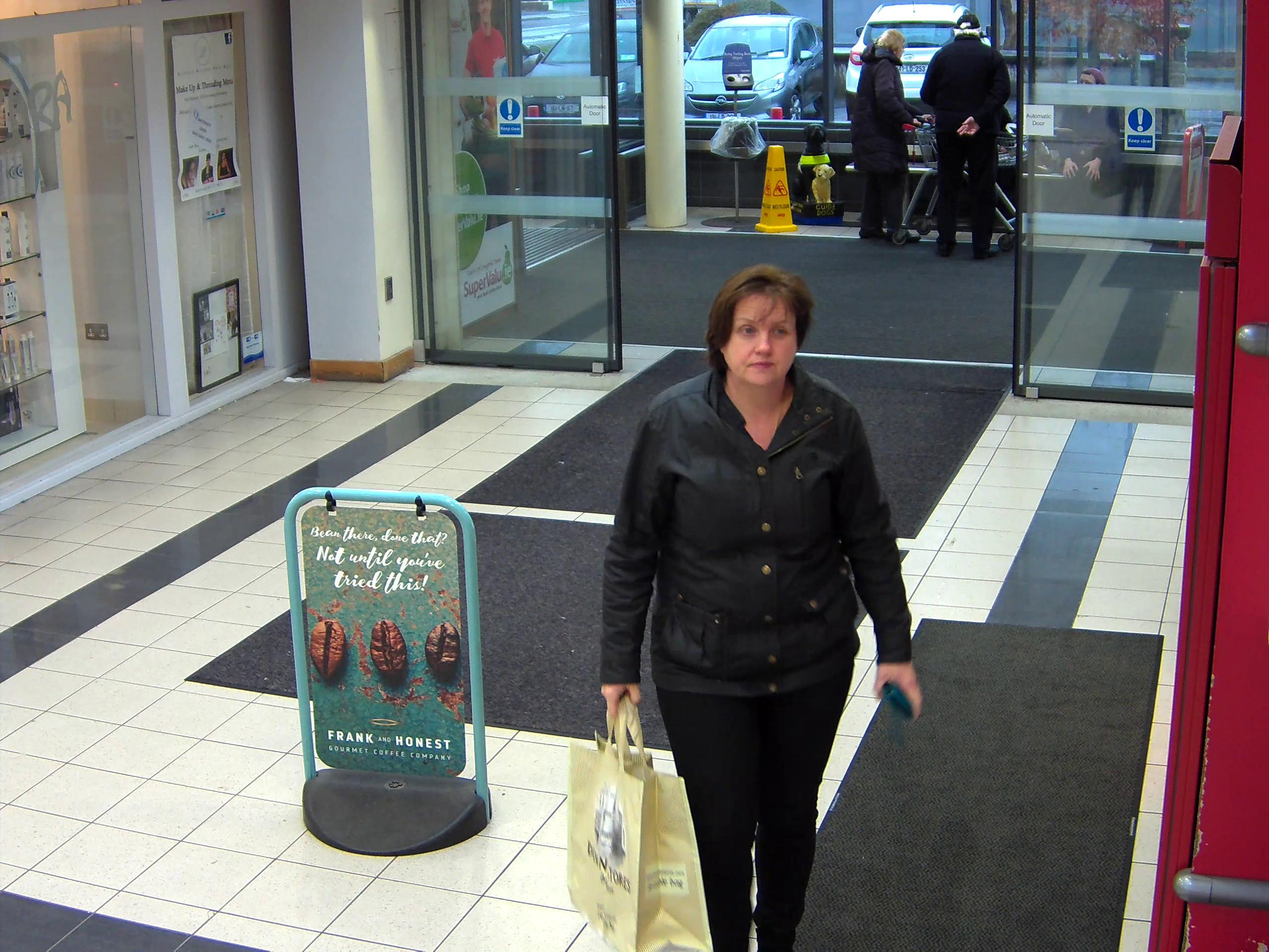filled-shopping-bags: (568, 701, 712, 950)
person: (601, 265, 920, 952)
person-with-filled-shopping-bag-s-: (568, 265, 923, 952)
